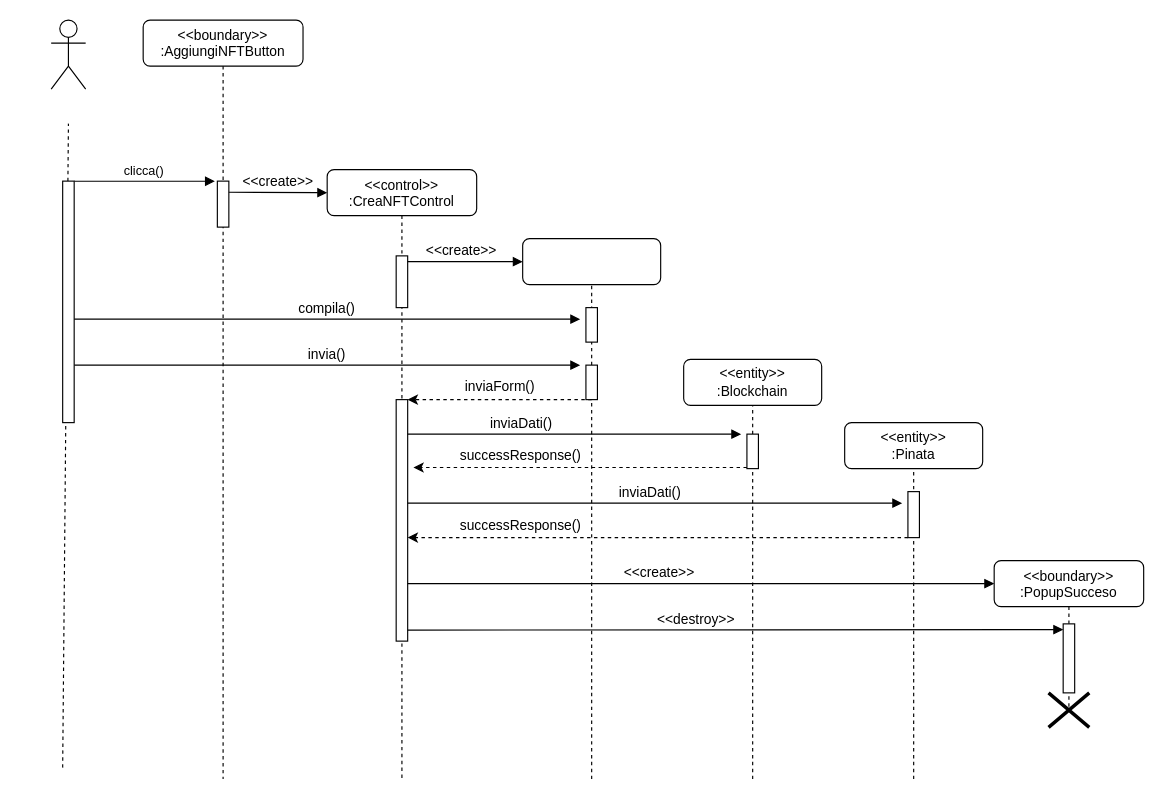
Image size: 1164x800. Some labels were removed from this diagram. Each missing label, with the centre of its shape:
":Amministratore" goes at (68,54).
"<<boundary>> :CreaNFTForm" goes at (591,261).
